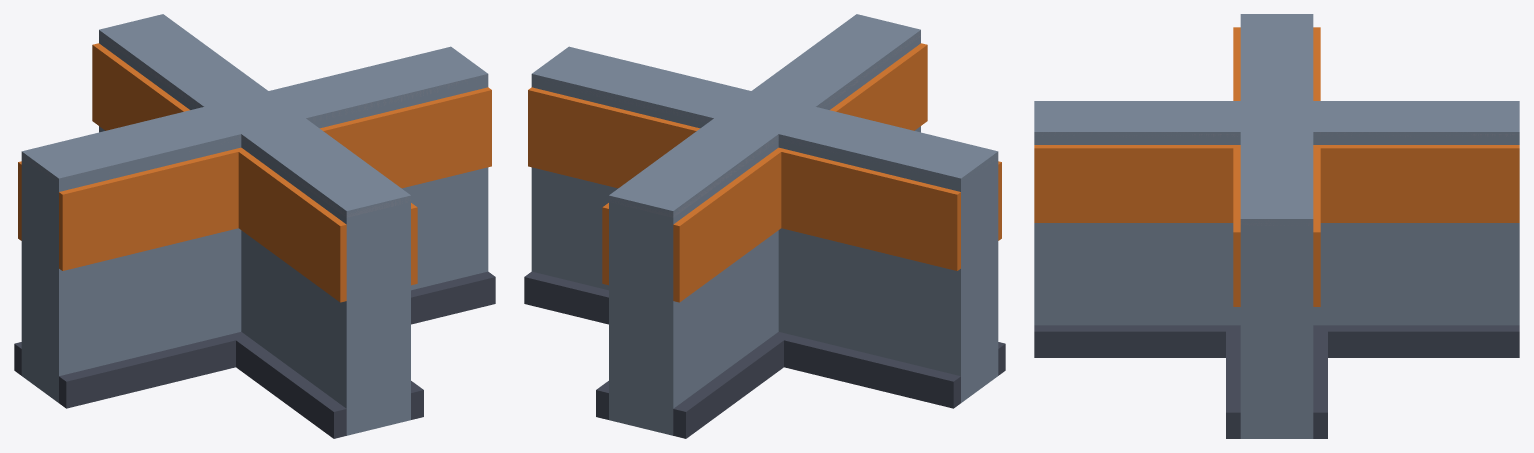
File: partition-cross.glb
The picture shows the model from 3 angles, left to right: view 1: azimuth 30°, elevation 25°; view 2: azimuth 150°, elevation 25°; view 3: azimuth 270°, elevation 25°; orthographic projection. The views are drawn at different scales.
Visible parts, largest first — view 1: partition-cross; view 2: partition-cross; view 3: partition-cross.
Boxes of the visible parts, left/top/right/bottom form: partition-cross: left=14, top=14, right=495, bottom=438; partition-cross: left=524, top=14, right=1005, bottom=438; partition-cross: left=1034, top=14, right=1519, bottom=438.
Size of the model in its own units: 1 by 0.5 by 1.
1 material, 1 textured.
